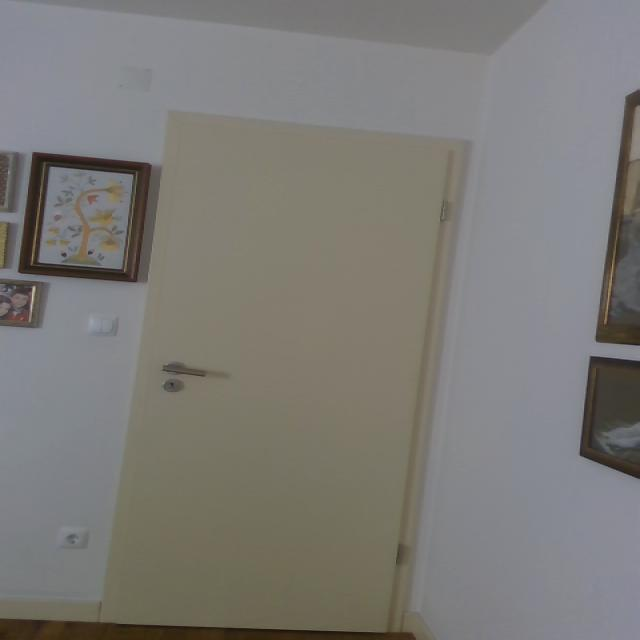door: (94, 110, 480, 639)
